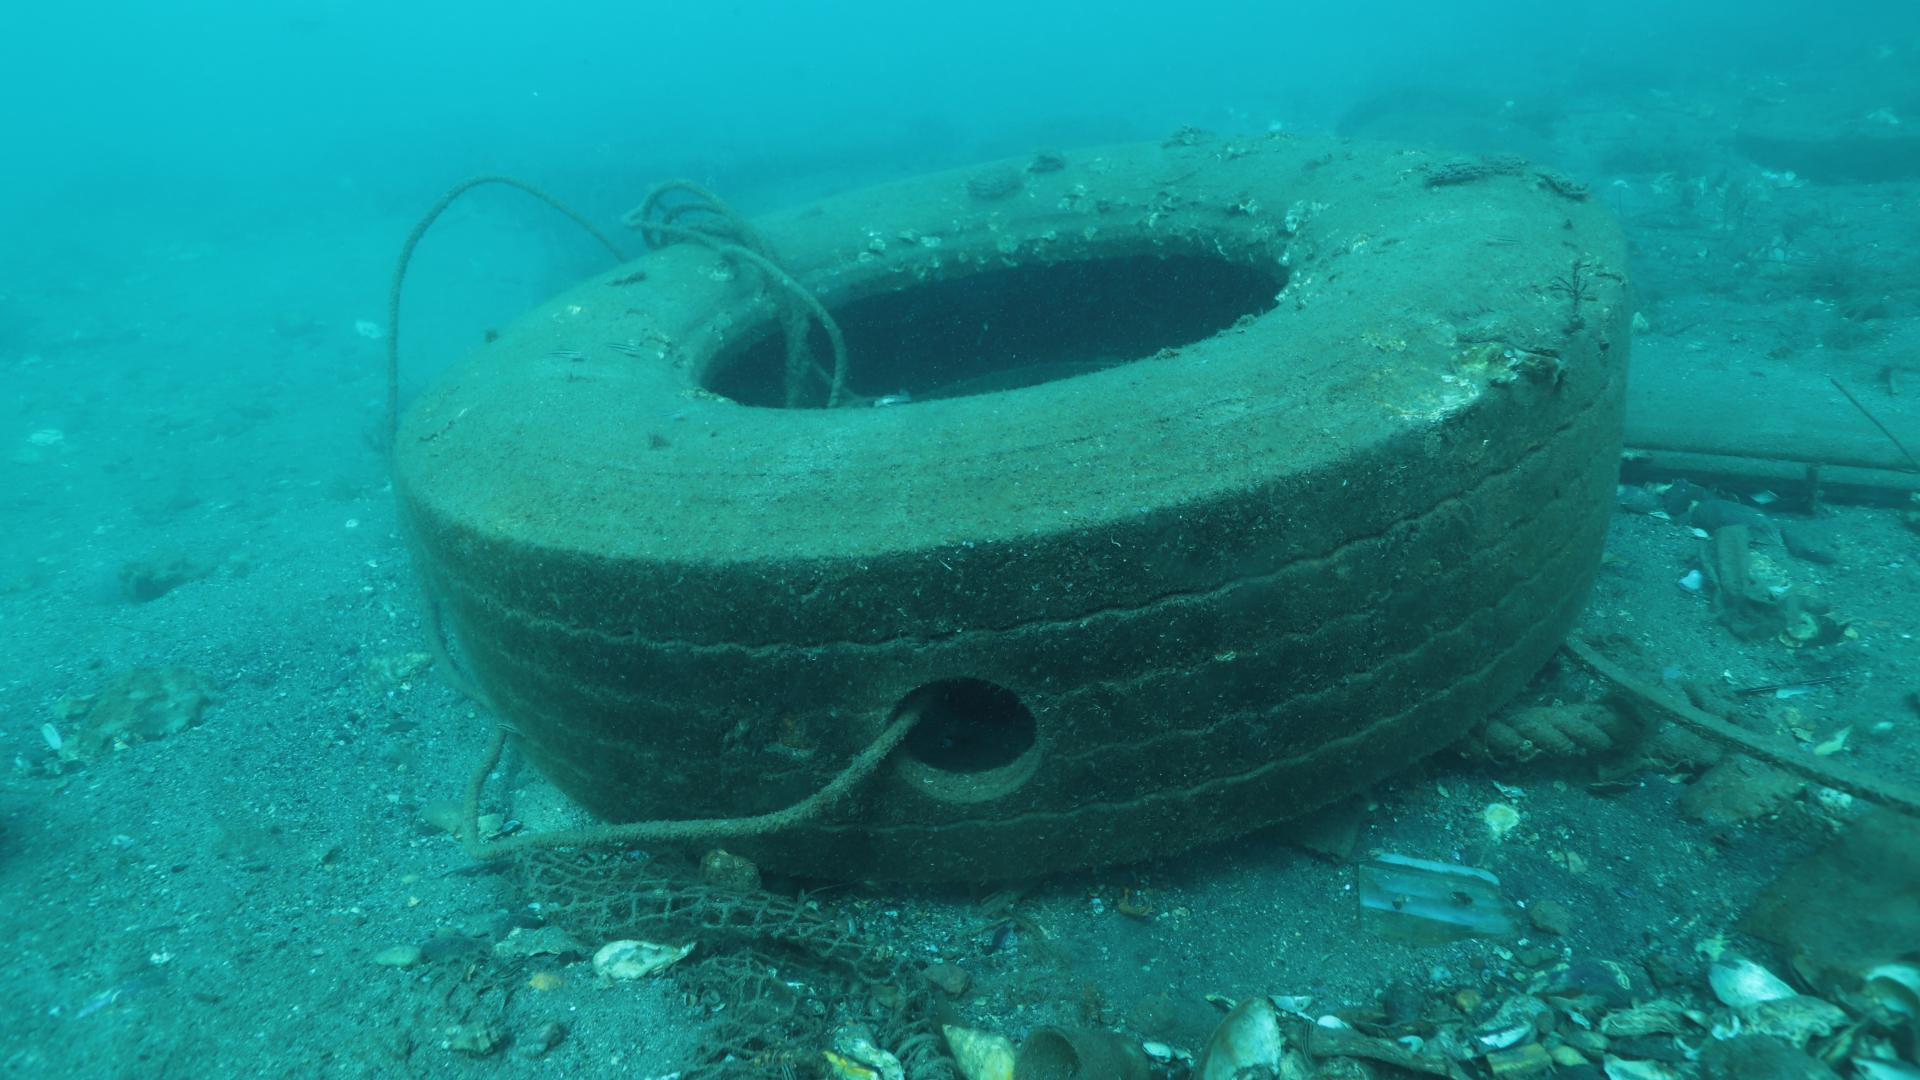bundle of ropes: (622, 171, 851, 406)
fish net: (512, 855, 913, 1058)
rope: (393, 492, 934, 857), (388, 173, 622, 447), (1449, 684, 1658, 786)
tire: (392, 138, 1633, 910)
